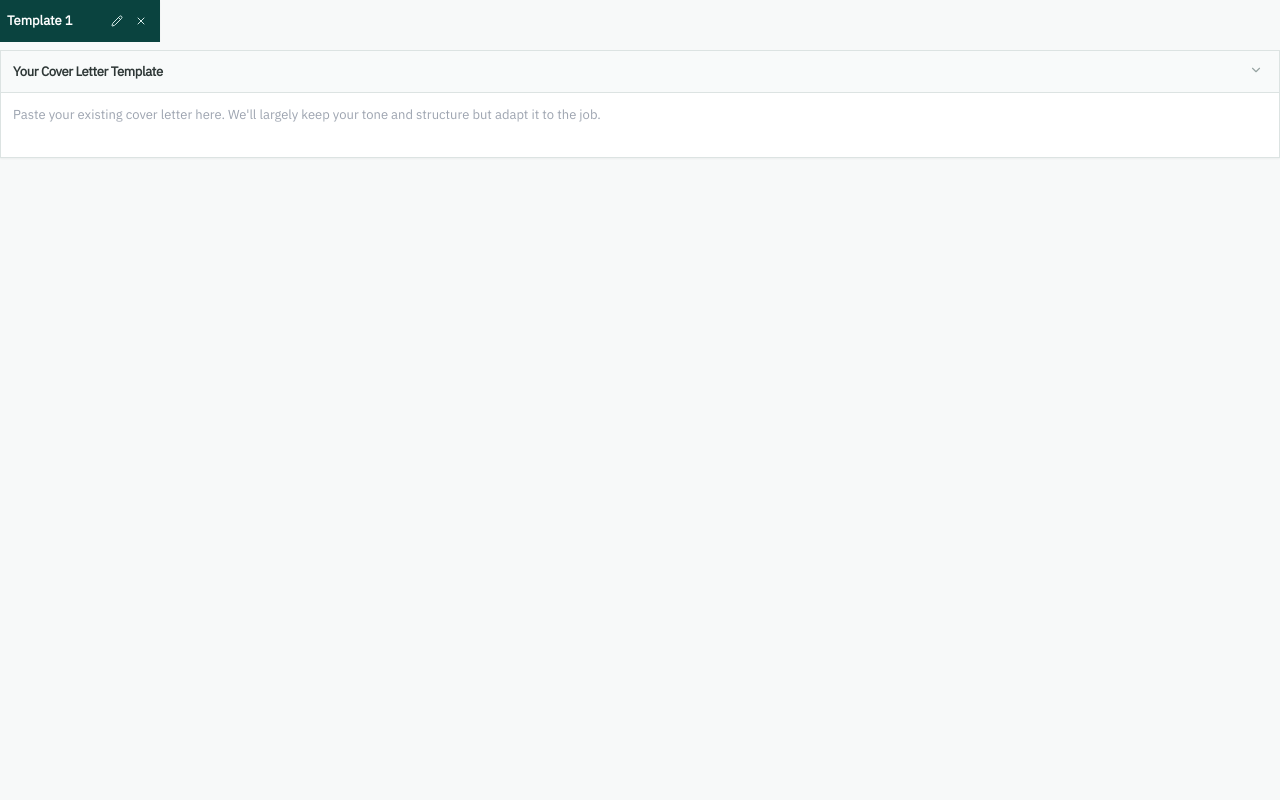
Scenario: TemplateInput › when authenticated › closes confirmation modal on cancel
The width and height of the screenshot is (1280, 800).
Click the button titled "Delete Template": (141, 21) [129,1,153,41]
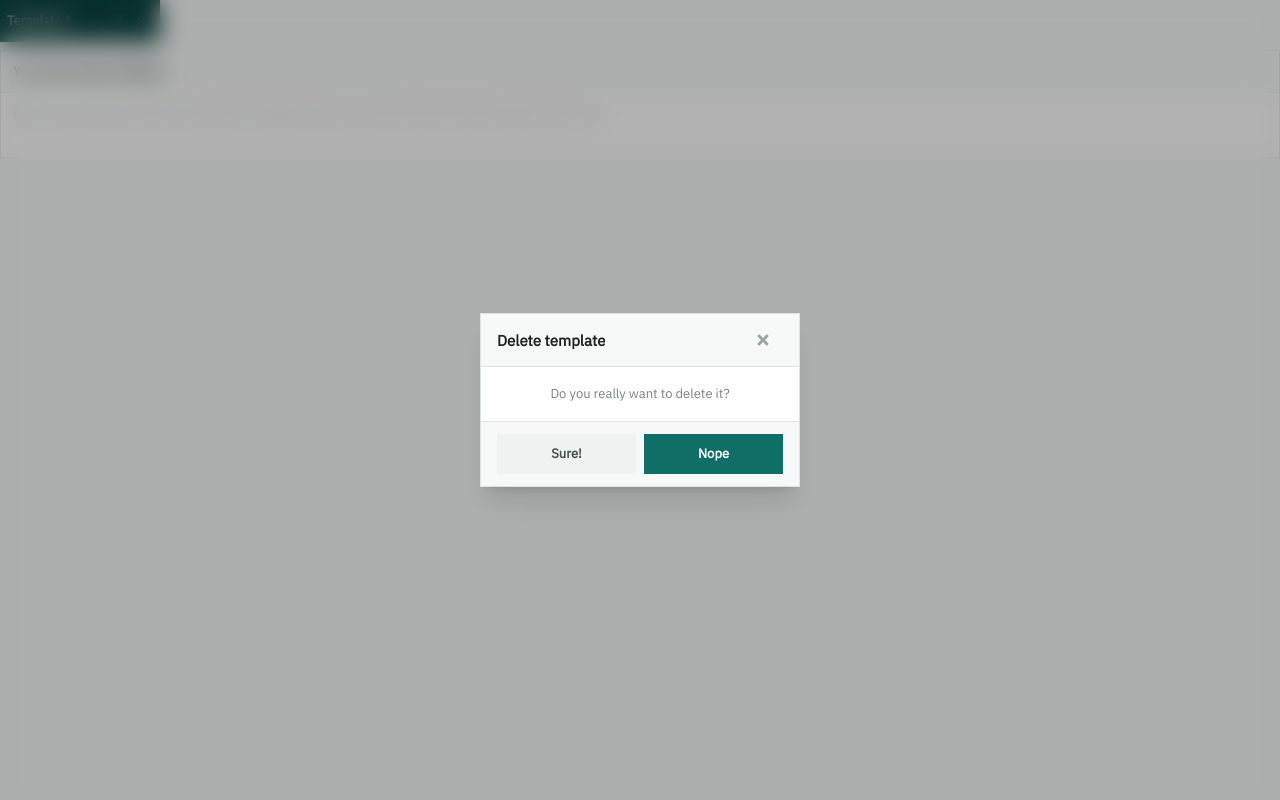
Expected: the text "Do you really want to delete it?" is shown, [550,385,730,402]
Click the button "Nope": (714, 454) [644,434,783,474]
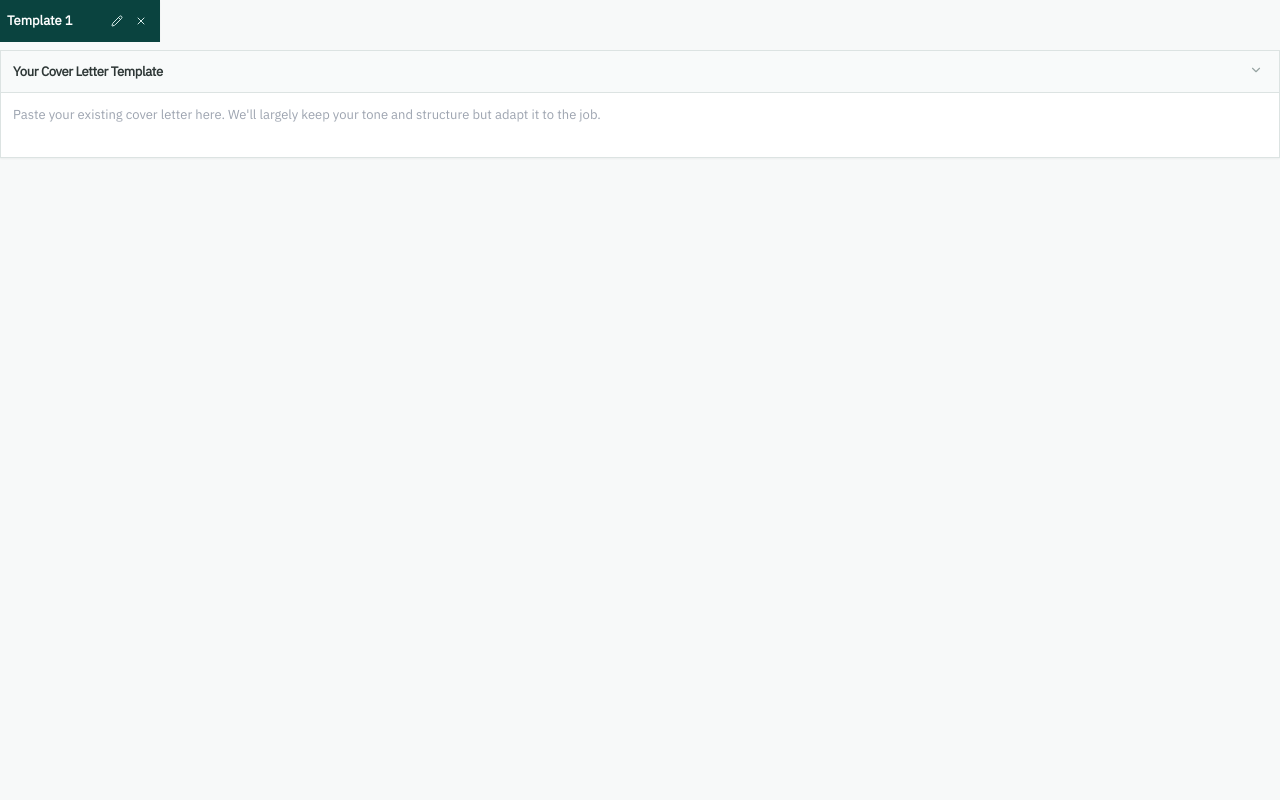
Expected: the text "Do you really want to delete it?" is gone
